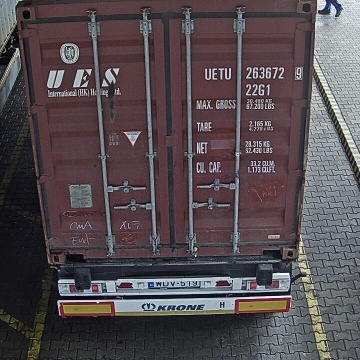serial_id: (205, 66, 302, 79)
